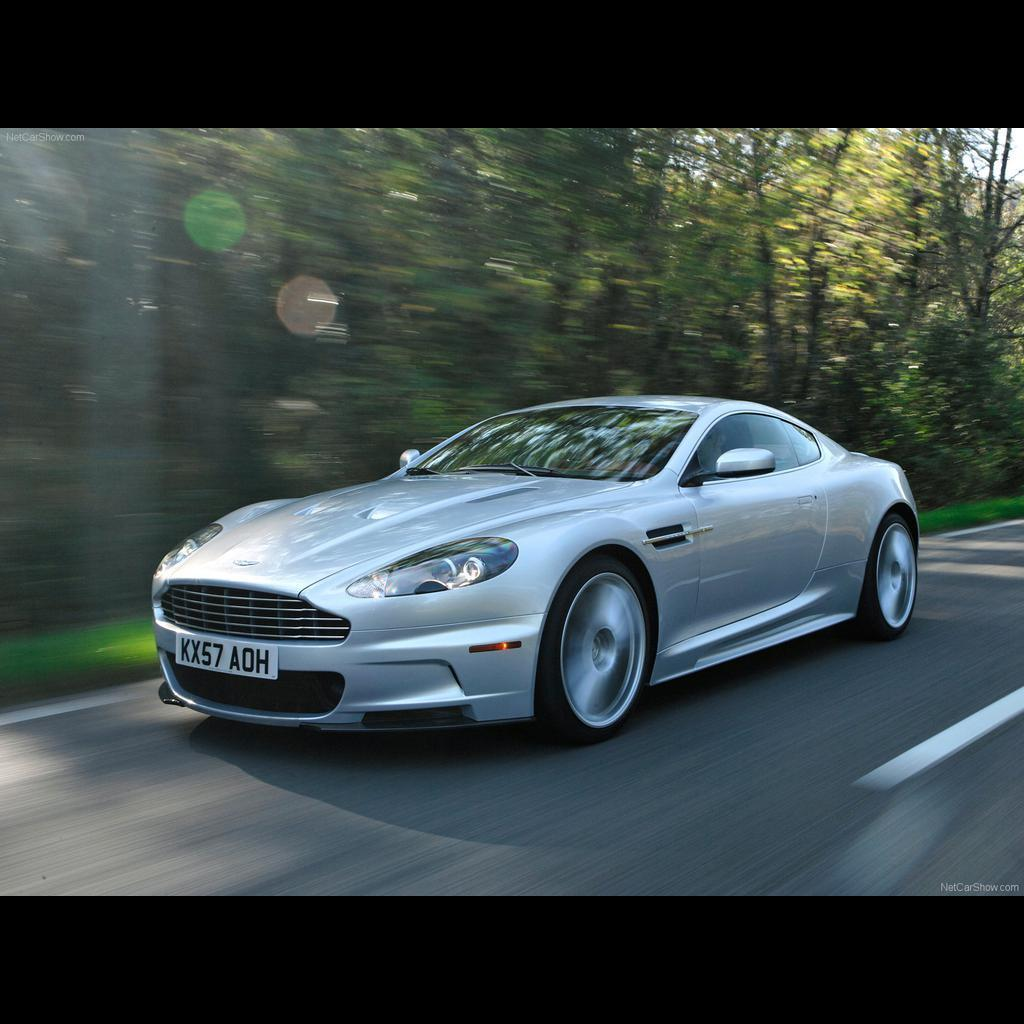aero: (355, 658, 467, 696), (641, 523, 701, 549), (354, 503, 405, 519), (292, 502, 340, 515)
bodysurface: (677, 467, 853, 660)
coupe: (149, 395, 921, 743)
dlo: (679, 410, 823, 488)
fender: (475, 502, 694, 629), (849, 450, 920, 544)
frontbumper: (150, 605, 550, 731)
grill: (154, 584, 351, 646)
headlamp: (345, 537, 518, 599), (152, 522, 222, 576)
hood: (155, 472, 636, 598)
mirror: (679, 447, 776, 487), (400, 449, 420, 468)
opening: (157, 648, 345, 719), (339, 697, 478, 728)
wheel: (559, 571, 646, 728), (876, 523, 915, 627)
